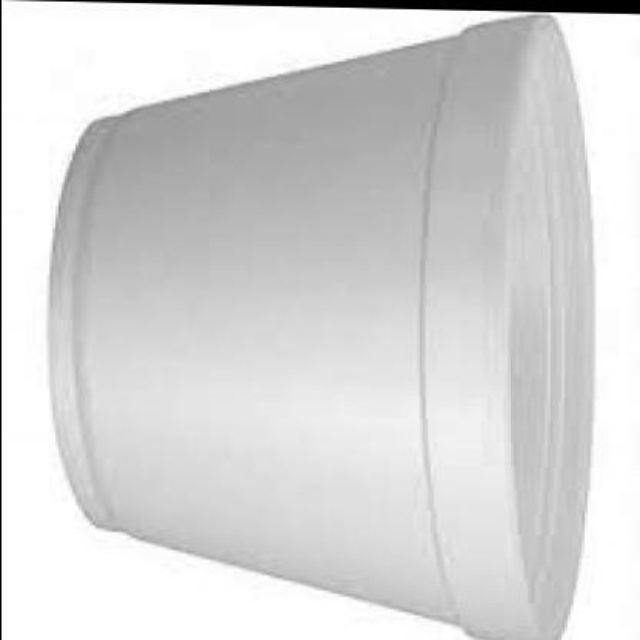trash: (49, 17, 592, 638)
